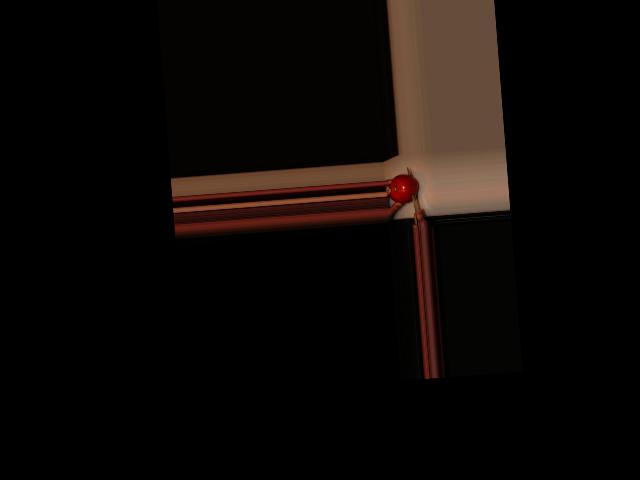tomato: (388, 172, 419, 204)
